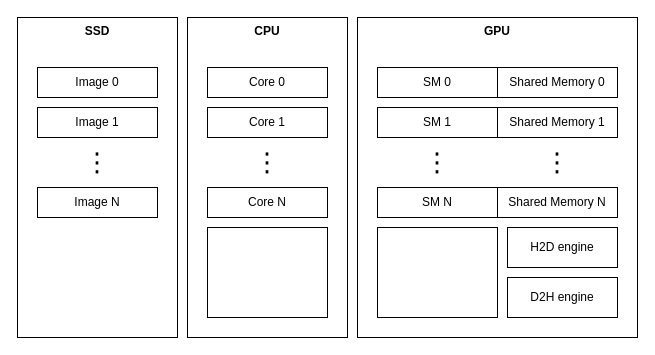
Image size: 655x355. Some labels were removed from this diagram. The centre of each missing label's shape, as x and y in pixels:
"Device Memory" belongs at point (437, 272).
"RAM" belongs at point (267, 272).
